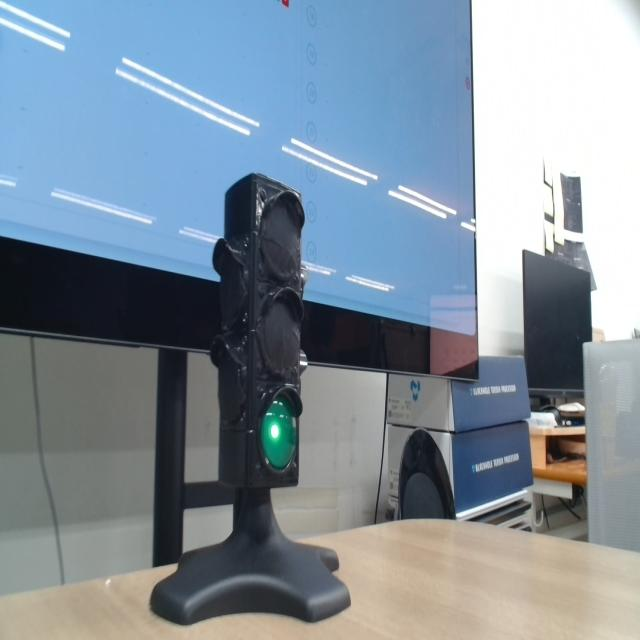green_light: (261, 397, 297, 469)
